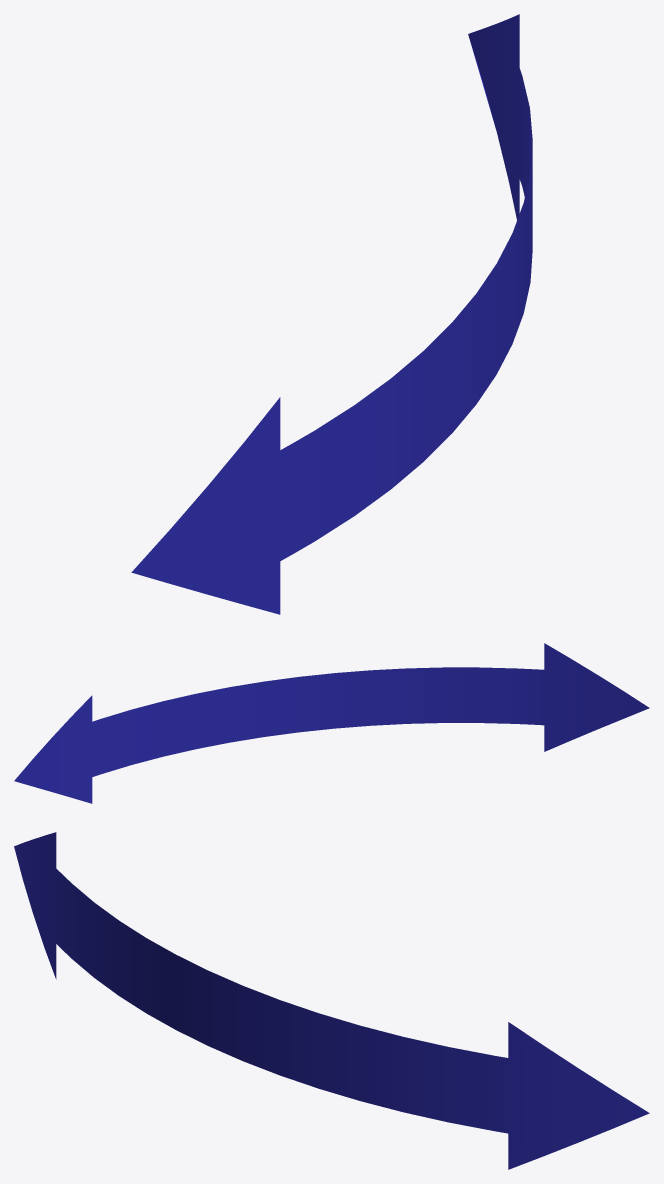
Rendered from arrow_3D.glb.
3 renders of one model, top to bottom at view 1: azimuth 30°, elevation 25°; view 2: azimuth 150°, elevation 25°; view 3: azimuth 270°, elevation 25°, orthographic. The views are drawn at different scales.
Visible parts, largest first — view 1: handle; view 2: handle; view 3: handle.
Part boxes in pixels (left/top/right/bottom): handle: left=131, top=14, right=532, bottom=614; handle: left=14, top=643, right=649, bottom=803; handle: left=14, top=832, right=649, bottom=1169.
Size of the model in its own units: 0.00135 by 0.00035 by 0.00136.
